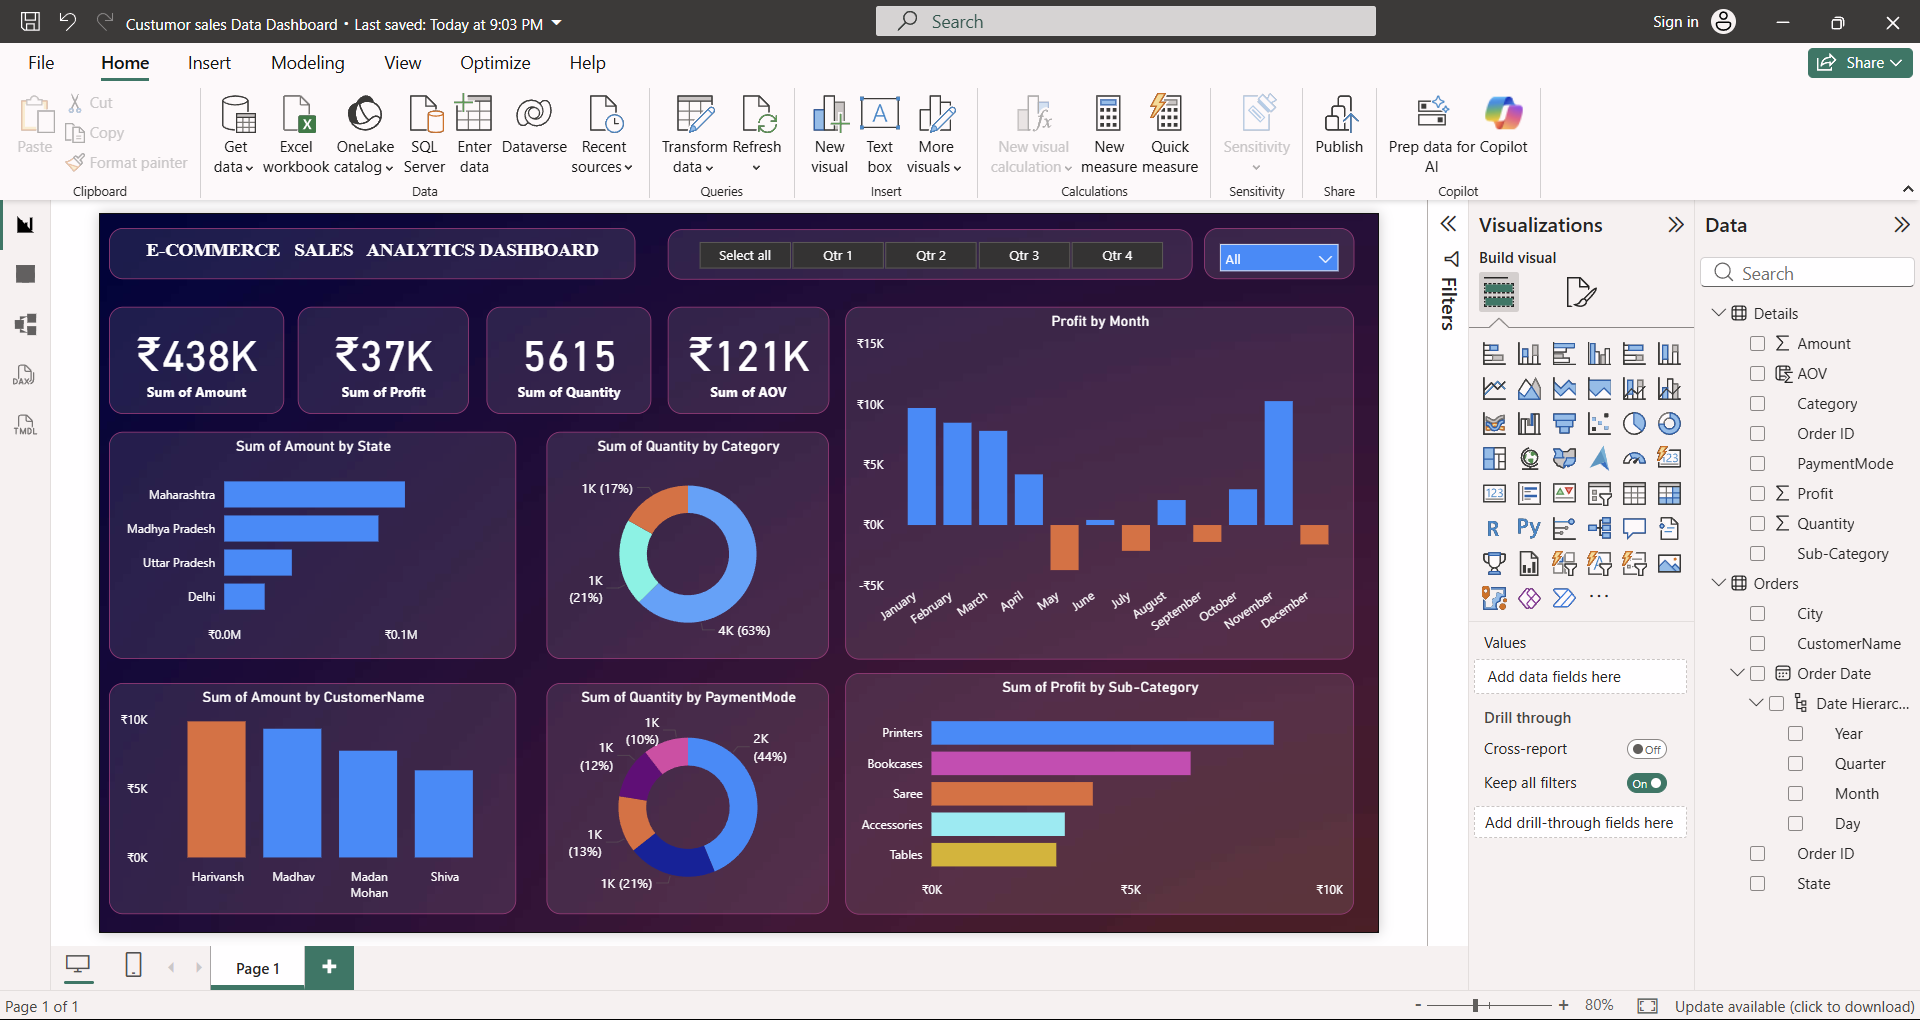

Layout of this report page (visuals, bound fields, positions):
{"tool":"powerbi","page":{"name":"Page 1","canvas":[1280,720],"ordinal":0},"visuals":[{"type":"textbox","box":[10,15,526.2,51.2],"z":0},{"type":"columnChart","title":"Profit by Month","fields":{"Category":["Orders.Order Date.Variation.Date Hierarchy.Month"],"Y":["Sum(Details.Profit)"]},"box":[746.2,93.8,508.8,352.5],"z":1000},{"type":"barChart","fields":{"Category":["Details.Sub-Category"],"Y":["Sum(Details.Profit)"]},"box":[746.2,460,508.8,241.2],"z":2000},{"type":"donutChart","fields":{"Category":["Details.Category"],"Y":["Sum(Details.Quantity)"]},"box":[447.5,218.8,282.5,227.5],"z":3000},{"type":"donutChart","fields":{"Y":["Sum(Details.Quantity)"],"Category":["Details.PaymentMode"]},"box":[447.5,470,282.5,231.2],"z":4000},{"type":"card","fields":{"Values":["Sum(Details.Amount)"]},"box":[10,93.8,175,107.5],"z":4001},{"type":"card","fields":{"Values":["Sum(Details.AOV)"]},"box":[568.8,93.8,161.2,107.5],"z":4002},{"type":"card","fields":{"Values":["Sum(Details.Quantity)"]},"box":[387.5,93.8,165,107.5],"z":4003},{"type":"card","fields":{"Values":["Sum(Details.Profit)"]},"box":[198.8,93.8,171.2,107.5],"z":4004},{"type":"barChart","fields":{"Category":["Orders.State"],"Y":["Sum(Details.Amount)"]},"box":[10,218.8,407.5,227.5],"z":4005},{"type":"columnChart","fields":{"Category":["Orders.CustomerName"],"Y":["Sum(Details.Amount)"]},"box":[10,470,407.5,231.2],"z":4006},{"type":"slicer","fields":{"Values":["Orders.Order Date.Variation.Date Hierarchy.Quarter"]},"box":[568.8,16.2,525,50],"z":4007},{"type":"slicer","fields":{"Values":["Orders.State"]},"box":[1105,15,150,51.2],"z":4008}]}

Visuals, with their boxes on the page's 1280x720 design canvas (x1, y1, x2, y2). These are canvas units, not pixel positions in the 1920x1020 screenshot, which may show the page scaled, cropped or inside an application window:
textbox: (x1=10, y1=15, x2=536, y2=66)
"Profit by Month" columnChart: (x1=746, y1=94, x2=1255, y2=446)
barChart - Details.Sub-Category x Sum(Details.Profit): (x1=746, y1=460, x2=1255, y2=701)
donutChart - Details.Category x Sum(Details.Quantity): (x1=448, y1=219, x2=730, y2=446)
donutChart - Sum(Details.Quantity) x Details.PaymentMode: (x1=448, y1=470, x2=730, y2=701)
card - Sum(Details.Amount): (x1=10, y1=94, x2=185, y2=201)
card - Sum(Details.AOV): (x1=569, y1=94, x2=730, y2=201)
card - Sum(Details.Quantity): (x1=388, y1=94, x2=552, y2=201)
card - Sum(Details.Profit): (x1=199, y1=94, x2=370, y2=201)
barChart - Orders.State x Sum(Details.Amount): (x1=10, y1=219, x2=418, y2=446)
columnChart - Orders.CustomerName x Sum(Details.Amount): (x1=10, y1=470, x2=418, y2=701)
slicer - Orders.Order Date.Variation.Date Hierarchy.Quarter: (x1=569, y1=16, x2=1094, y2=66)
slicer - Orders.State: (x1=1105, y1=15, x2=1255, y2=66)
